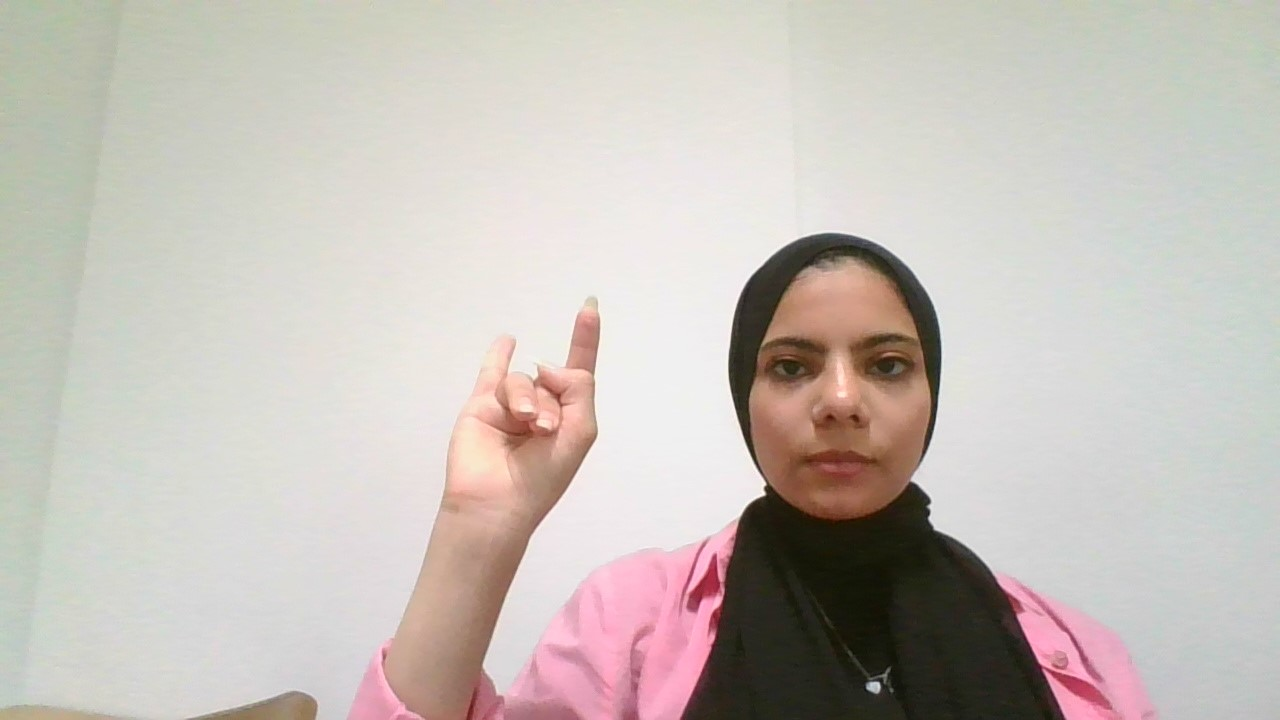love: (444, 289, 620, 570)
